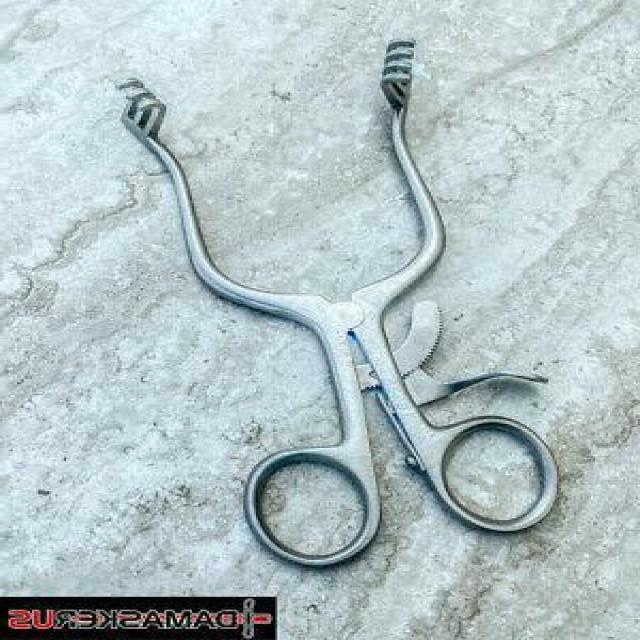Weitlaner: (106, 33, 562, 574)
